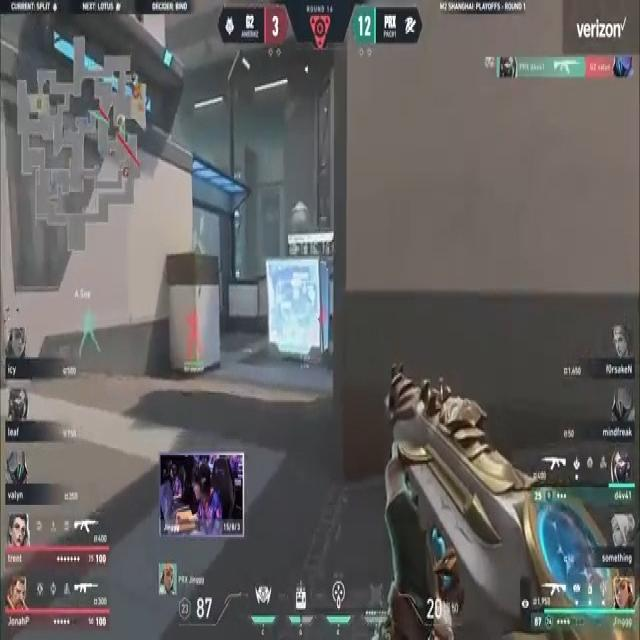ally behind wall: (77, 303, 100, 361)
